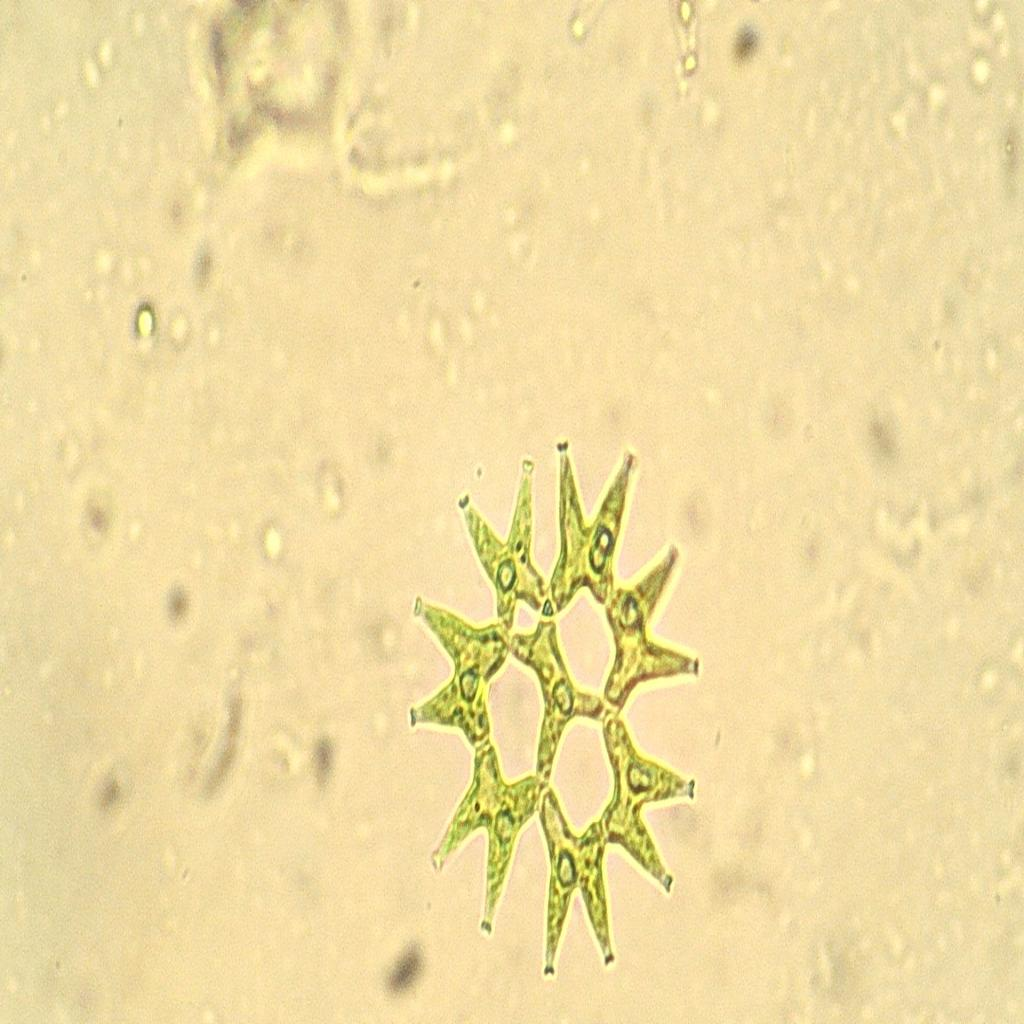Pediastrum_1T: (404, 406, 712, 994)
